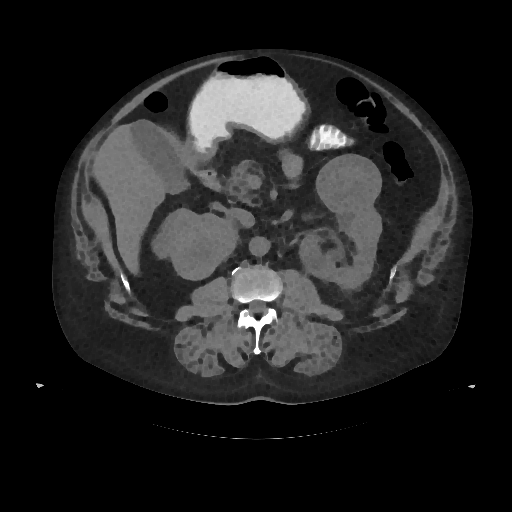Lesion: (315, 154, 384, 215)
